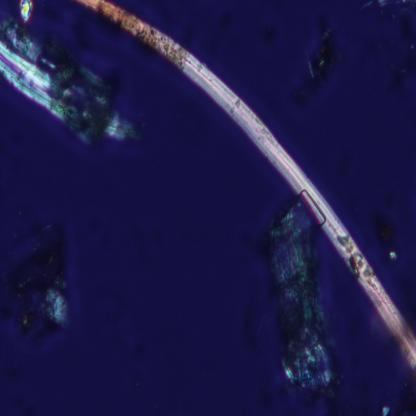Background material: (262, 211, 352, 407), (0, 27, 136, 150), (21, 253, 74, 336), (291, 29, 336, 104)
Microfibre: (78, 0, 416, 366)
